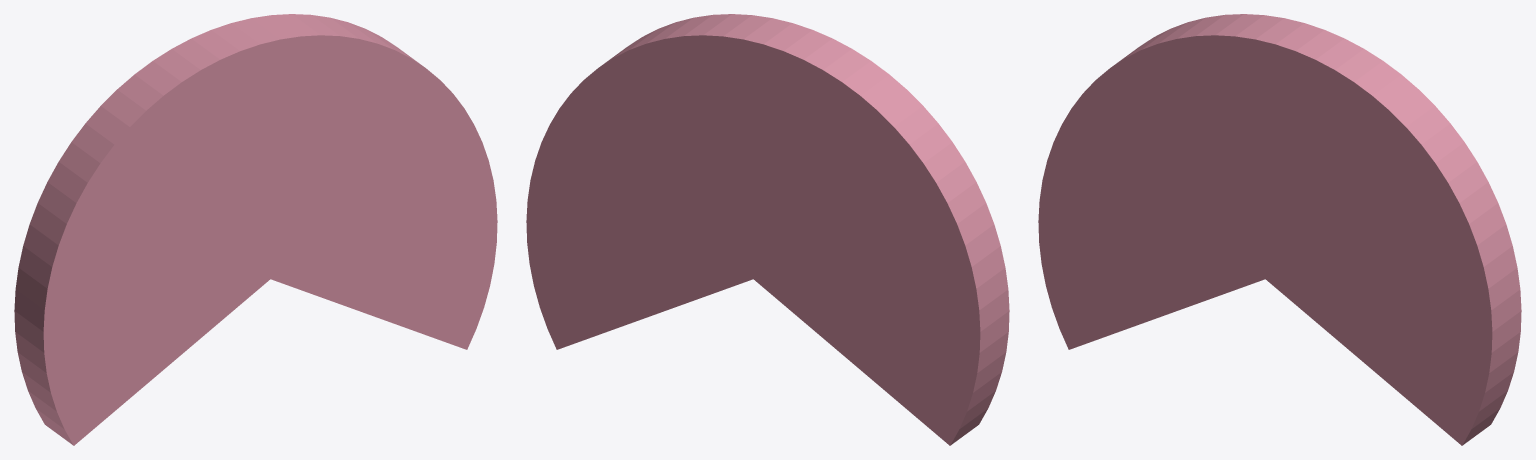
Rendered from sector2d_demo.glb.
3 renders of one model, left to right at view 1: azimuth 30°, elevation 25°; view 2: azimuth 150°, elevation 25°; view 3: azimuth 330°, elevation 25°, orthographic.
Parts seen in each view (by area): view 1: extruded_sector; view 2: extruded_sector; view 3: extruded_sector.
Boxes of the visible parts, x1,y1,x2,y2 form: extruded_sector: (14, 14, 497, 445); extruded_sector: (526, 14, 1009, 445); extruded_sector: (1038, 14, 1521, 445).
Bounding box in the file's own units: 36 × 26.98 × 4.
